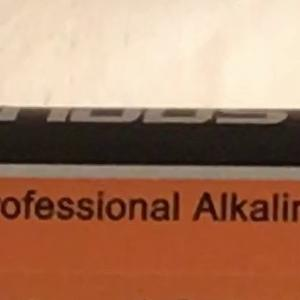keyword: (182, 181, 238, 232)
